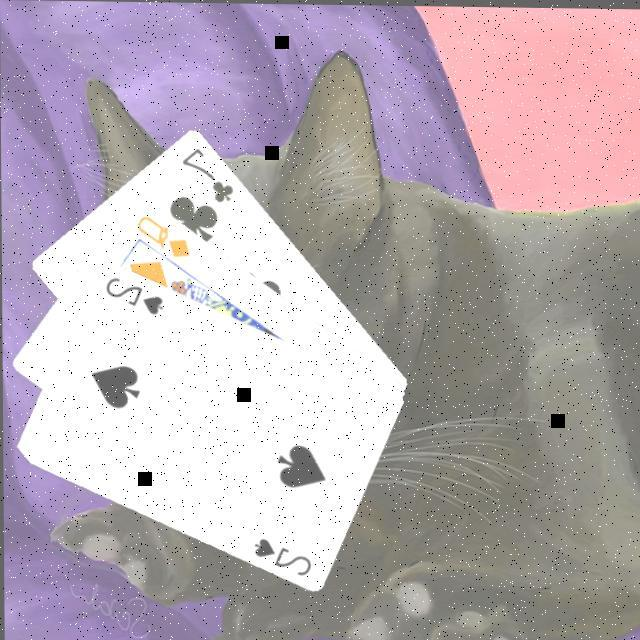2S: (102, 271, 168, 317), (251, 531, 315, 577)
7C: (179, 142, 239, 205)
QD: (134, 209, 196, 260)
